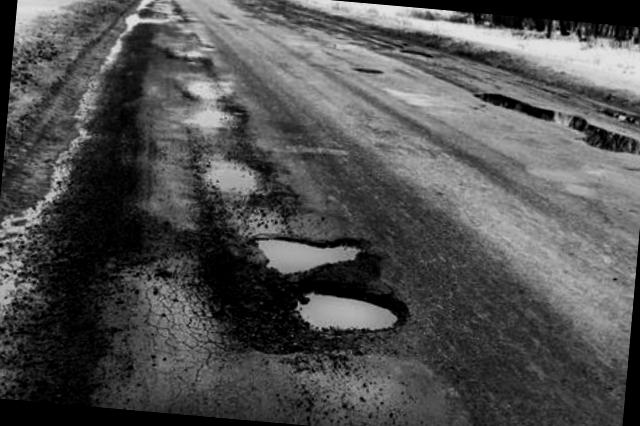Pothole: (450, 86, 640, 168), (238, 215, 384, 290), (284, 276, 422, 349), (182, 143, 284, 206), (166, 92, 250, 140), (581, 95, 640, 131), (381, 41, 438, 65), (342, 60, 389, 87)
